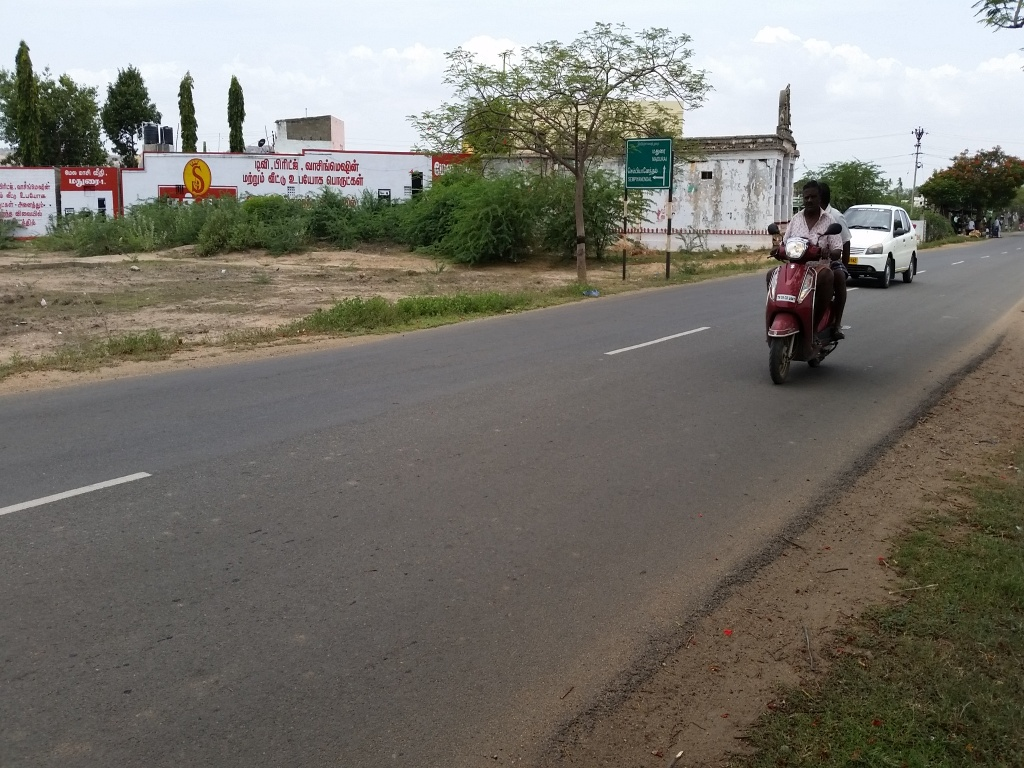biker: (735, 140, 884, 401)
nohelmet: (798, 174, 834, 225)
